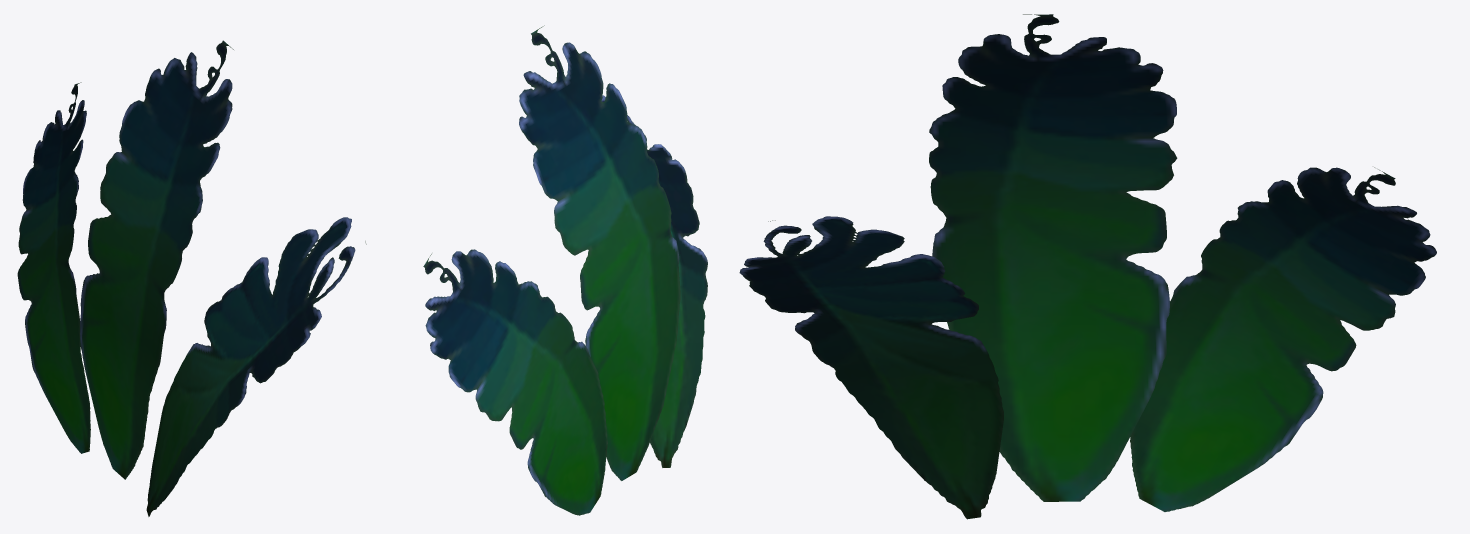
Rendered from scenes_cave_plant01a.FBX.
The picture shows the model from 3 angles, left to right: view 1: azimuth 30°, elevation 25°; view 2: azimuth 150°, elevation 25°; view 3: azimuth 270°, elevation 25°; orthographic projection. The views are drawn at different scales.
Parts seen in each view (by area): view 1: scenes_cave_plant01a; view 2: scenes_cave_plant01a; view 3: scenes_cave_plant01a.
Part boxes in pixels (x1=…): scenes_cave_plant01a: x1=17, y1=40, x2=366, y2=516; scenes_cave_plant01a: x1=423, y1=25, x2=707, y2=515; scenes_cave_plant01a: x1=739, y1=14, x2=1436, y2=519.
Bounding box in the file's own units: 82.85 × 213 × 239.
